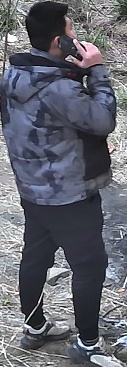phone: (45, 24, 120, 138)
